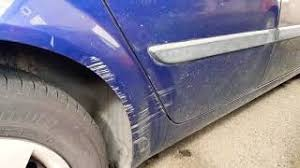scratch: (130, 90, 168, 162), (83, 53, 129, 102)
